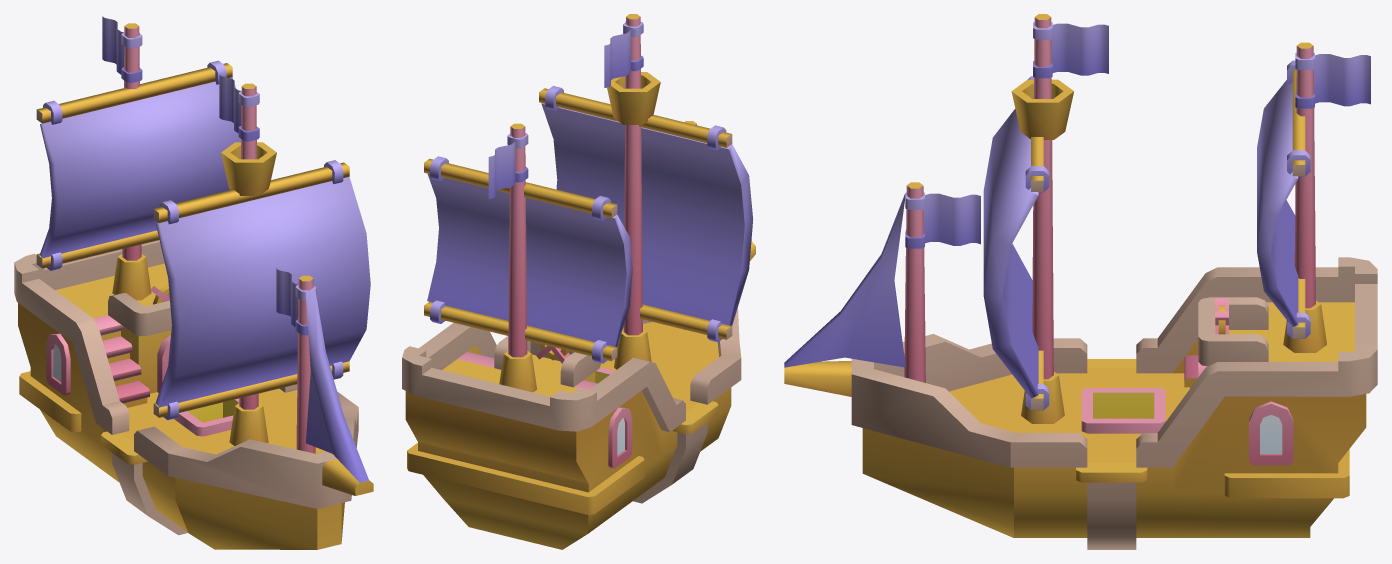
The model's file is sh-galleon.glb.
The picture shows the model from 3 angles, left to right: view 1: azimuth 30°, elevation 25°; view 2: azimuth 150°, elevation 25°; view 3: azimuth 270°, elevation 25°; orthographic projection. The views are drawn at different scales.
Parts seen in each view (by area): view 1: flag-a; view 2: flag-a; view 3: flag-a.
Part boxes in pixels (left/top/right/bottom): flag-a: left=14, top=16, right=373, bottom=549; flag-a: left=402, top=14, right=755, bottom=549; flag-a: left=784, top=14, right=1377, bottom=549.
Bounding box in the file's own units: 4.8 × 9.96 × 10.6.
Materials: 1 (1 with a texture image).
